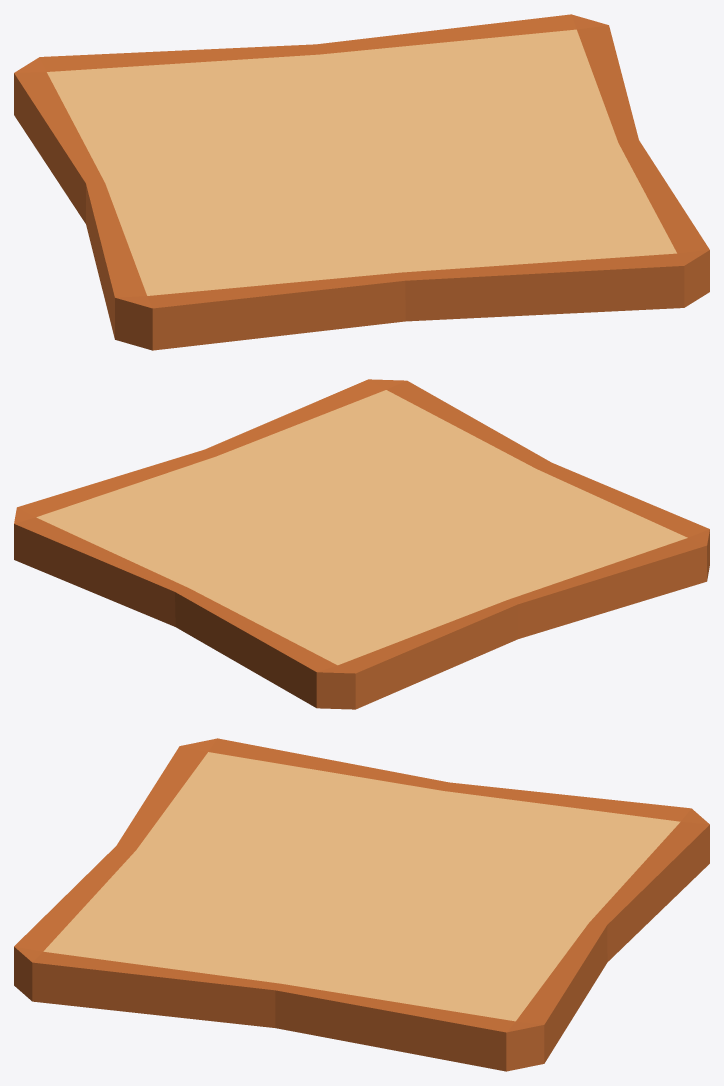
The model's file is хлеб.fbx.
3 renders of one model, top to bottom at view 1: azimuth 30°, elevation 25°; view 2: azimuth 150°, elevation 25°; view 3: azimuth 270°, elevation 25°, orthographic. The views are drawn at different scales.
Parts seen in each view (by area): view 1: ХЛЕБ; view 2: ХЛЕБ; view 3: ХЛЕБ.
Boxes of the visible parts, x1,y1,x2,y2 form: ХЛЕБ: (14,14,709,350); ХЛЕБ: (14,379,709,709); ХЛЕБ: (14,738,709,1071).
Size of the model in its own units: 21.29 by 1.32 by 21.29.
